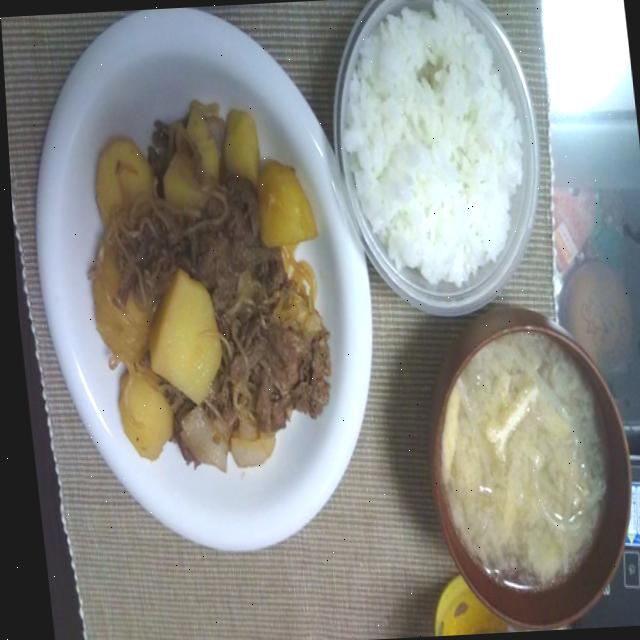汤锅炖物: (397, 294, 639, 634)
牛肉菜式: (20, 0, 394, 579)
米饭主食: (307, 0, 558, 337)
